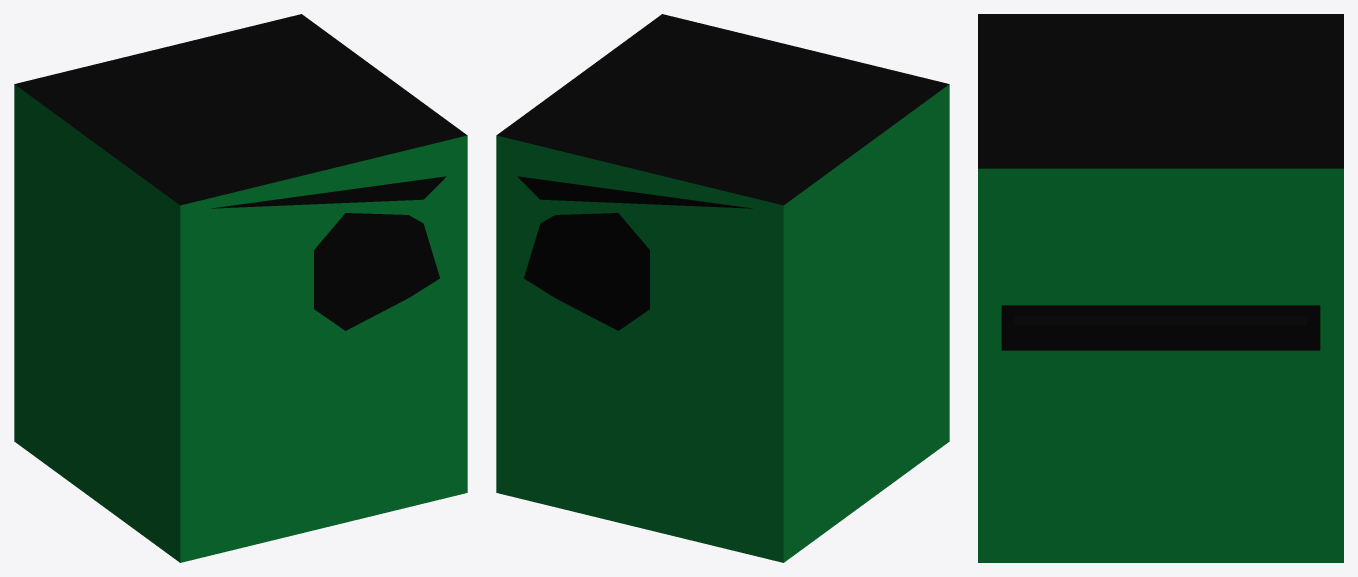
The model's file is eNemy 1.fbx.
3 renders of one model, left to right at view 1: azimuth 30°, elevation 25°; view 2: azimuth 150°, elevation 25°; view 3: azimuth 270°, elevation 25°, orthographic. The views are drawn at different scales.
Parts seen in each view (by area): view 1: pCube3; view 2: pCube3; view 3: pCube3.
Boxes of the visible parts, x1,y1,x2,y2 form: pCube3: (14,14,467,562); pCube3: (496,14,949,562); pCube3: (978,14,1343,562).
Bounding box in the file's own units: 1 × 1.19 × 1.
